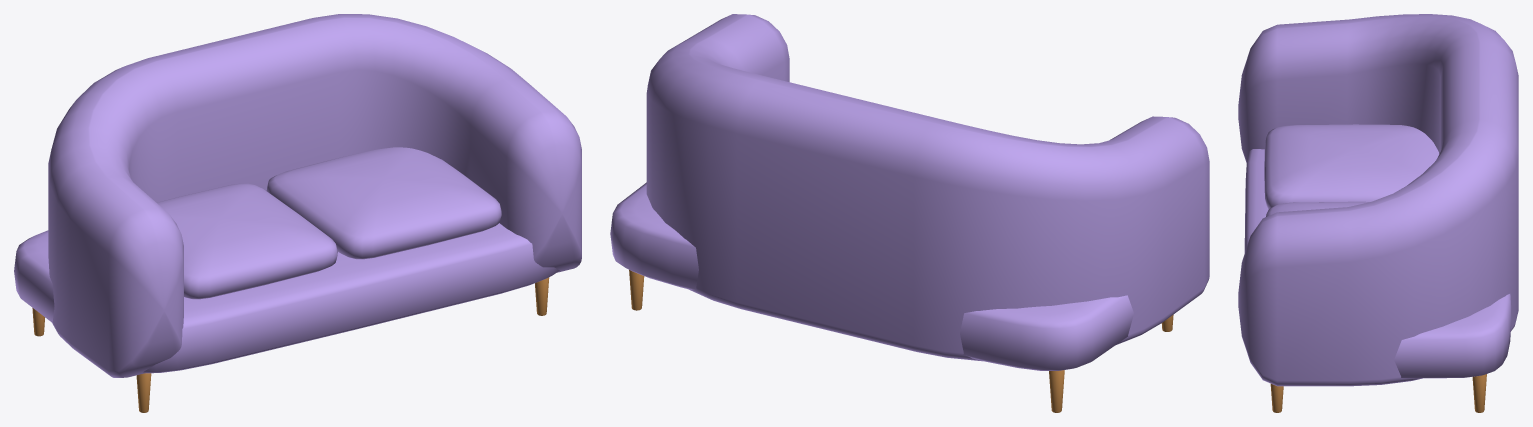
Rendered from namoradeira_concha_lilas.glb.
The picture shows the model from 3 angles, left to right: view 1: azimuth 30°, elevation 25°; view 2: azimuth 150°, elevation 25°; view 3: azimuth 270°, elevation 25°; orthographic projection. The views are drawn at different scales.
Visible parts, largest first — view 1: namoradeira_concha_lilas; view 2: namoradeira_concha_lilas; view 3: namoradeira_concha_lilas.
Boxes of the visible parts, <box> form: namoradeira_concha_lilas: <box>14,14,581,412</box>; namoradeira_concha_lilas: <box>610,14,1209,412</box>; namoradeira_concha_lilas: <box>1238,14,1518,412</box>.
Size of the model in its own units: 1.6 by 0.8 by 0.8596.
Materials: 1 (1 with a texture image).
